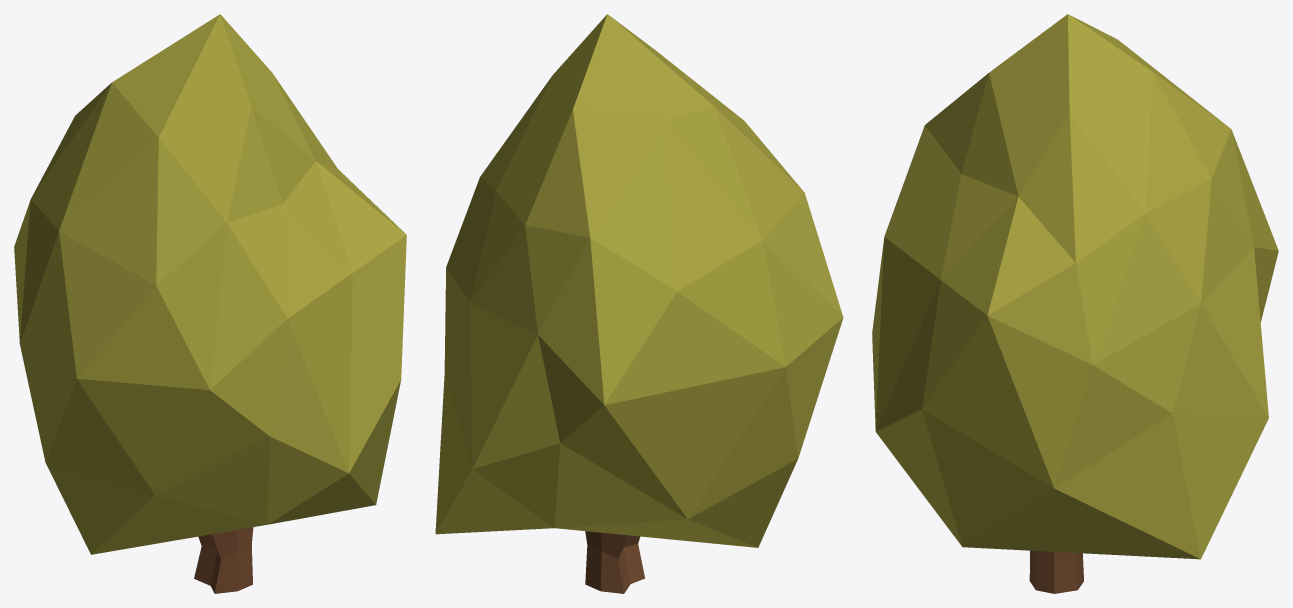
File: Tree_55_Yellow.fbx
3 views of the same model, side by side, from view 1: azimuth 30°, elevation 25°; view 2: azimuth 150°, elevation 25°; view 3: azimuth 270°, elevation 25° (orthographic).
Visible parts, largest first — view 1: Tree_55_Yellow_Part_1, Tree_55_Yellow_Part_2; view 2: Tree_55_Yellow_Part_1, Tree_55_Yellow_Part_2; view 3: Tree_55_Yellow_Part_1, Tree_55_Yellow_Part_2.
Part boxes in pixels (x1,y1,x2,y2): Tree_55_Yellow_Part_1: (14, 14, 406, 554); Tree_55_Yellow_Part_2: (194, 527, 253, 593); Tree_55_Yellow_Part_1: (435, 14, 843, 547); Tree_55_Yellow_Part_2: (585, 531, 644, 593); Tree_55_Yellow_Part_1: (872, 14, 1278, 559); Tree_55_Yellow_Part_2: (1029, 550, 1083, 593).
Bounding box in the file's own units: 515 × 795 × 516.
